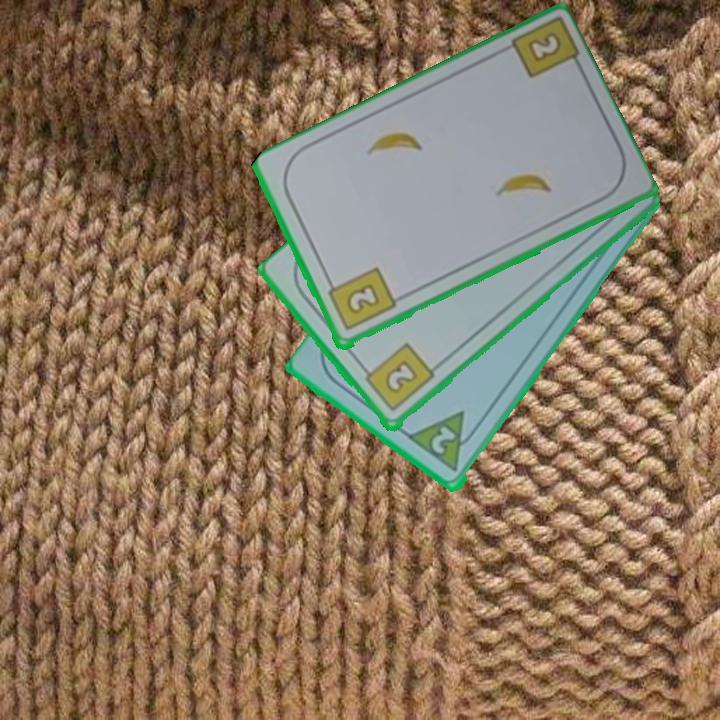2b: (358, 340, 437, 415), (323, 264, 399, 334), (527, 32, 561, 62)
2p: (406, 408, 484, 476)
